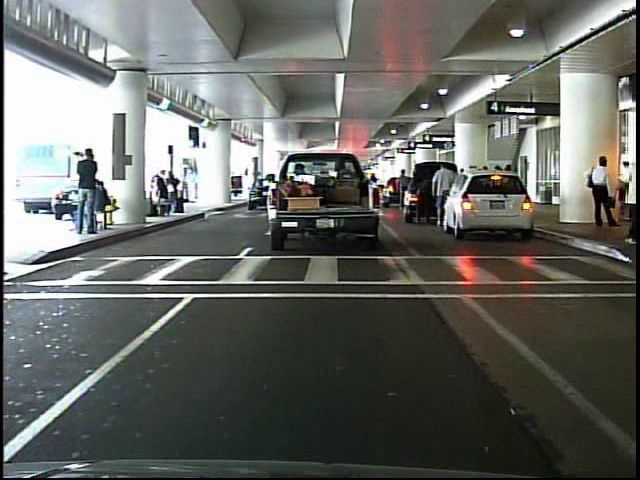person: (587, 150, 625, 234), (76, 141, 106, 236), (428, 159, 456, 232), (185, 164, 200, 207)
